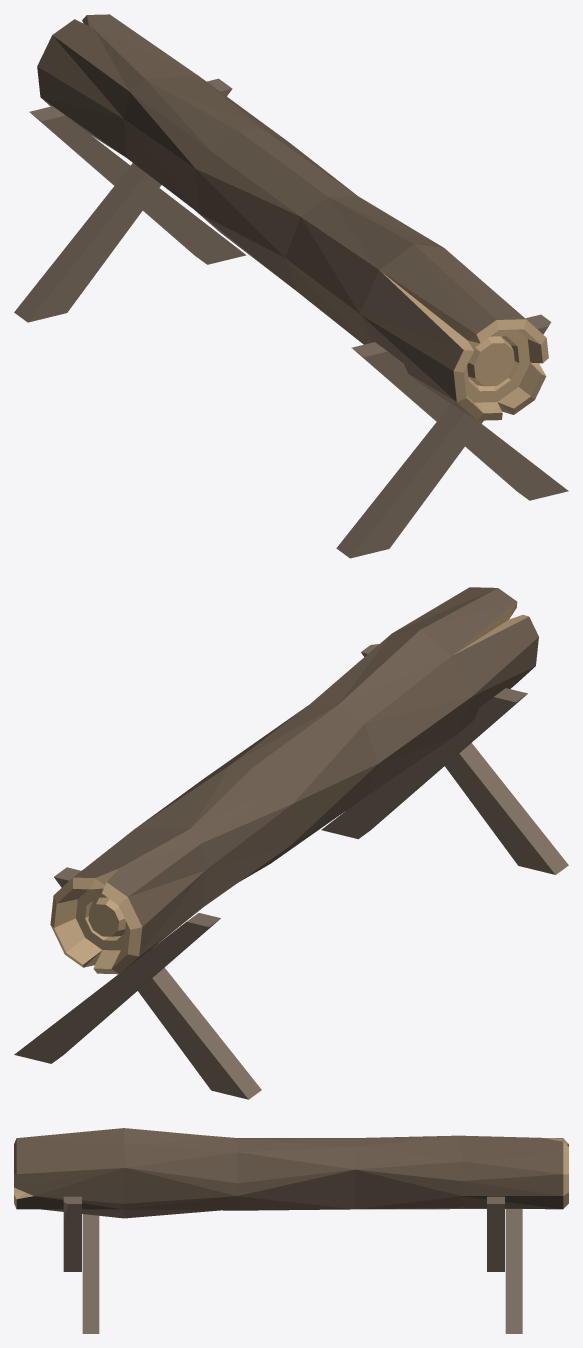
Rendered from _wood_1.fbx.
The picture shows the model from 3 angles, top to bottom: view 1: azimuth 30°, elevation 25°; view 2: azimuth 150°, elevation 25°; view 3: azimuth 270°, elevation 25°; orthographic projection. The views are drawn at different scales.
Parts seen in each view (by area): view 1: wood_1; view 2: wood_1; view 3: wood_1.
Boxes of the visible parts, x1,y1,x2,y2 form: wood_1: (14, 14, 568, 558); wood_1: (14, 587, 568, 1099); wood_1: (14, 1128, 568, 1333).
Bounding box in the file's own units: 111 × 115 × 348.
